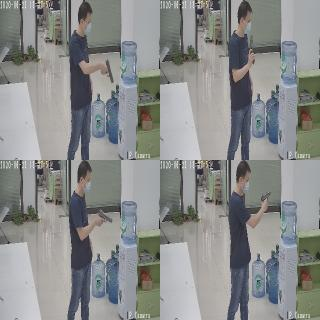gun: (99, 58, 113, 84), (246, 32, 256, 65), (96, 207, 112, 227), (260, 189, 270, 211)
